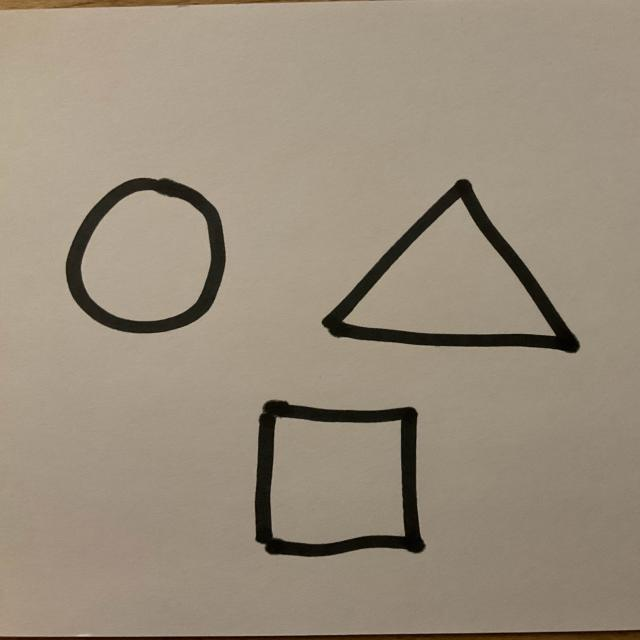Dreieck: (321, 179, 580, 354)
Kreis: (64, 178, 227, 337)
Quadrat: (254, 400, 424, 560)
